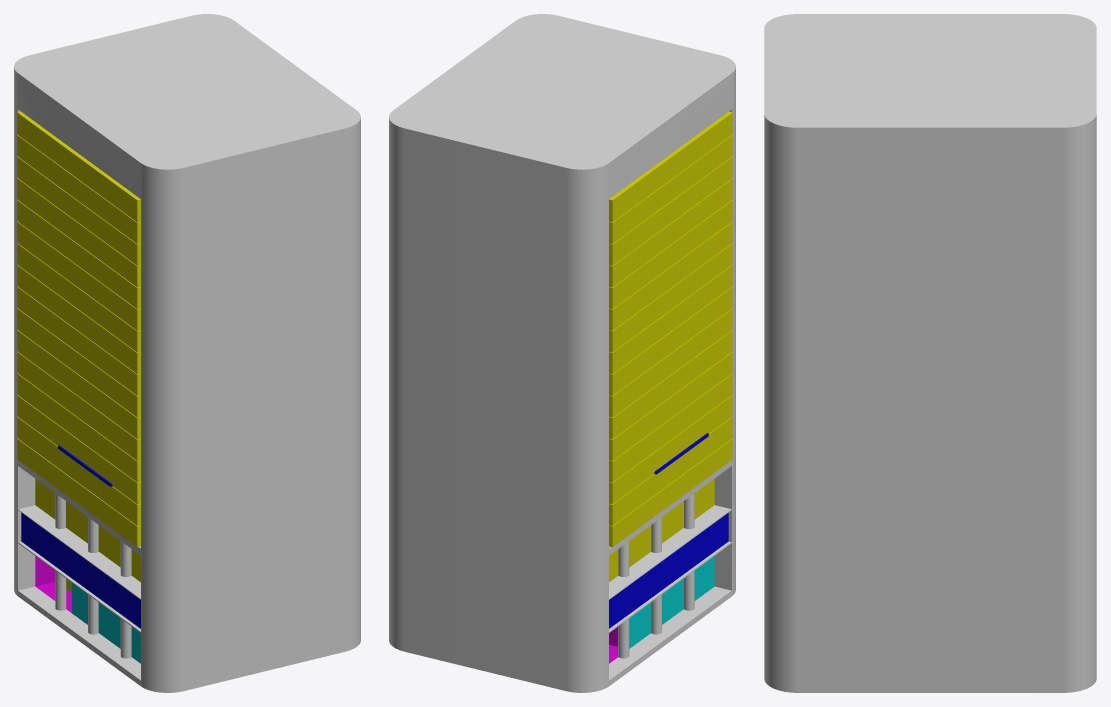
The model's file is Building_19.fbx.
3 renders of one model, left to right at view 1: azimuth 30°, elevation 25°; view 2: azimuth 150°, elevation 25°; view 3: azimuth 270°, elevation 25°, orthographic. The views are drawn at different scales.
Visible parts, largest first — view 1: Building_19; view 2: Building_19; view 3: Building_19.
Part boxes in pixels (bbox=[...]): Building_19: bbox=[14, 14, 360, 692]; Building_19: bbox=[389, 14, 735, 692]; Building_19: bbox=[764, 14, 1096, 692].
Bounding box in the file's own units: 161 × 367 × 196.
